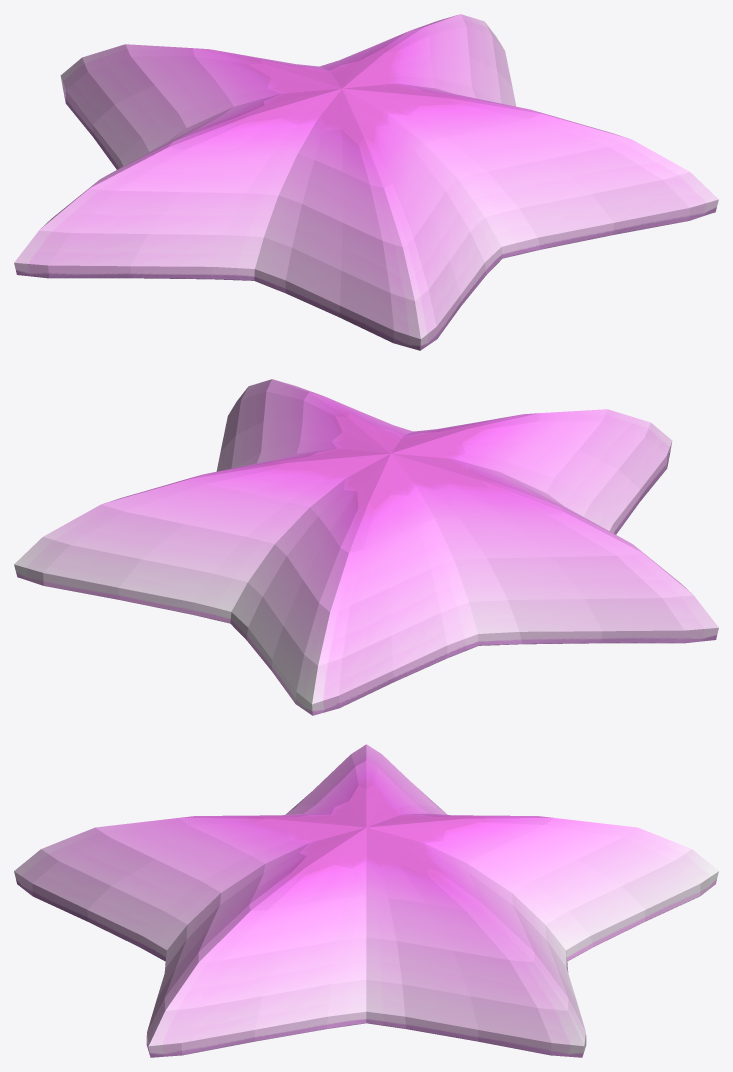
Rendered from coral9.glb.
3 renders of one model, top to bottom at view 1: azimuth 30°, elevation 25°; view 2: azimuth 150°, elevation 25°; view 3: azimuth 270°, elevation 25°, orthographic. The views are drawn at different scales.
Visible parts, largest first — view 1: Starfish02; view 2: Starfish02; view 3: Starfish02.
Boxes of the visible parts, left/top/right/bottom form: Starfish02: left=14, top=14, right=718, bottom=350; Starfish02: left=14, top=379, right=718, bottom=715; Starfish02: left=14, top=744, right=718, bottom=1057.
Size of the model in its own units: 0.8119 by 0.1468 by 0.8537.
1 material, 1 textured.
